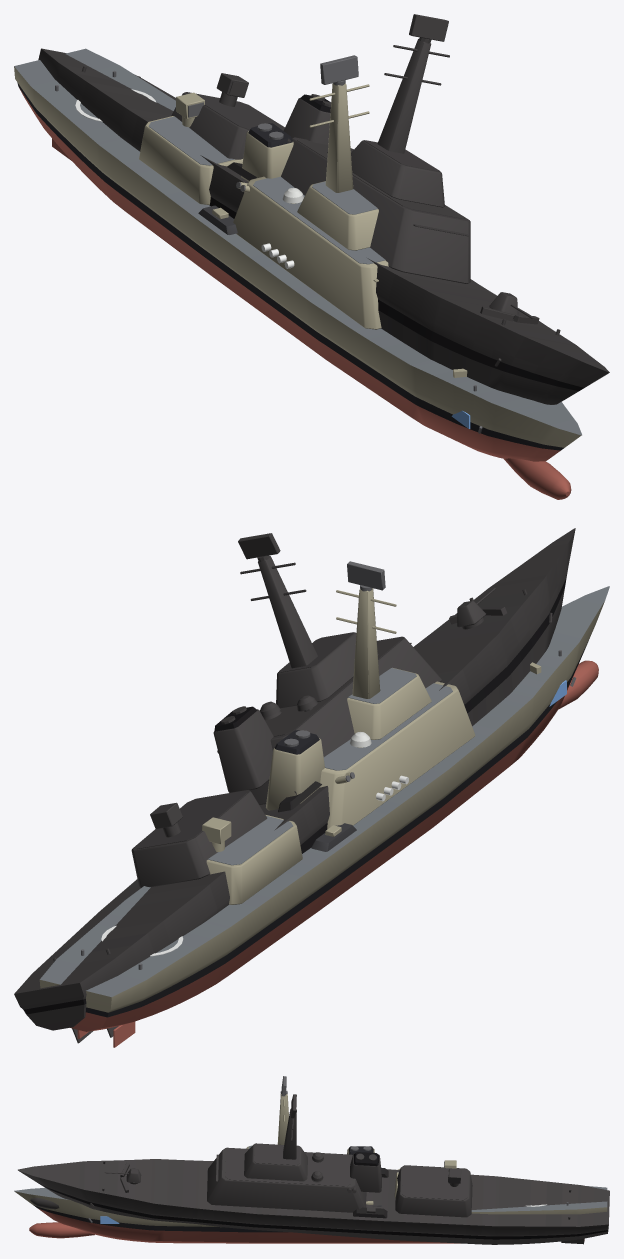
File: corvette__type_056a.glb
The picture shows the model from 3 angles, top to bottom: view 1: azimuth 30°, elevation 25°; view 2: azimuth 150°, elevation 25°; view 3: azimuth 270°, elevation 25°; orthographic projection. The views are drawn at different scales.
Parts seen in each view (by area): view 1: Hull_Mesh, Wreck, Radar_Mesh; view 2: Hull_Mesh, Wreck, Radar_Mesh; view 3: Wreck, Hull_Mesh.
Boxes of the visible parts, x1=… form: Hull_Mesh: x1=14, y1=48, x2=581, y2=499; Wreck: x1=38, y1=14, x2=609, y2=404; Radar_Mesh: x1=320, y1=55, x2=358, y2=85; Hull_Mesh: x1=39, y1=586, x2=609, y2=1047; Wreck: x1=14, y1=528, x2=575, y2=1043; Radar_Mesh: x1=347, y1=561, x2=385, y2=591; Wreck: x1=18, y1=1094, x2=609, y2=1244; Hull_Mesh: x1=14, y1=1094, x2=607, y2=1243.
Size of what is drawn, in the model's own units: 17.43 by 29.05 by 93.15.
